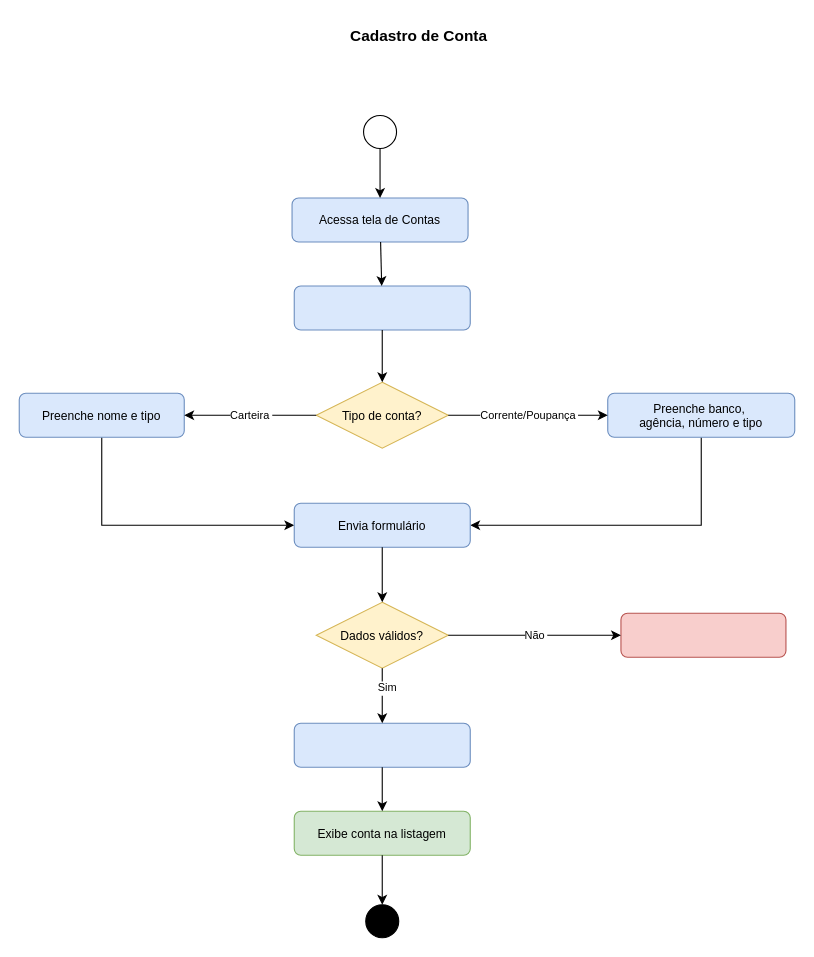
Image size: 814x957. Some labels were removed from this diagram. The box of each missing label's shape, as (x1, y1, x2, y2) in pixels:
Clica em Nova Conta: (293, 285, 470, 330)
Exibe erros no formulário: (620, 612, 786, 657)
Salva conta com saldo inicial 0: (293, 722, 470, 767)
